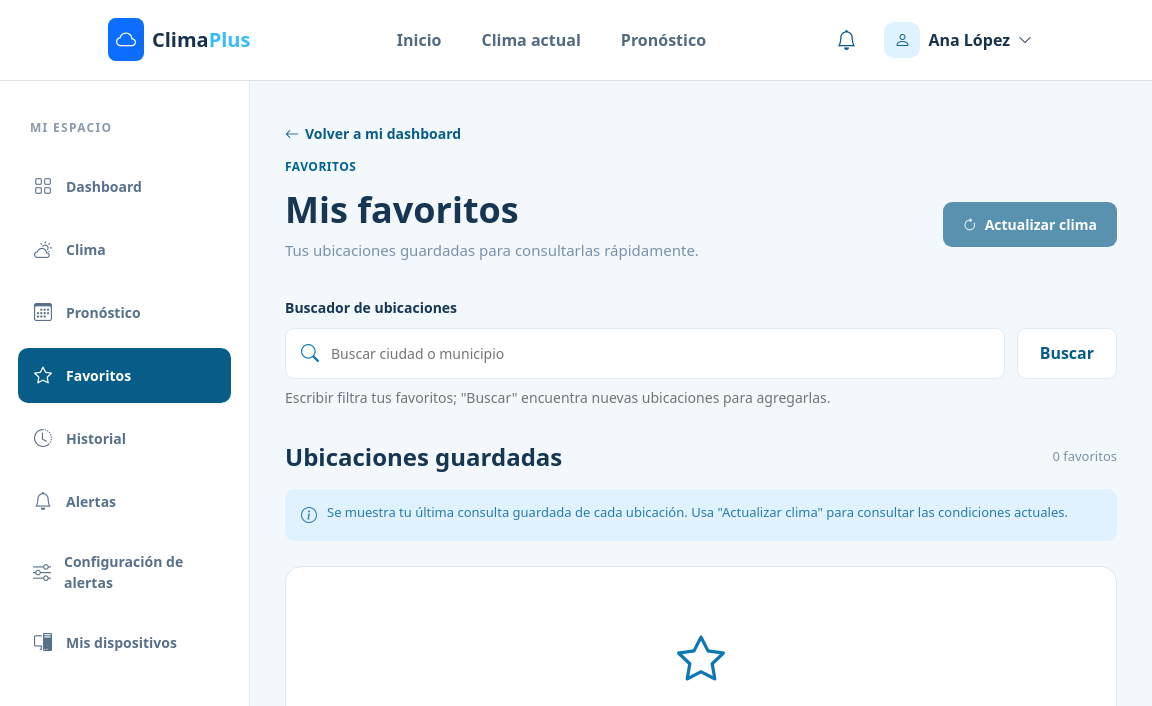
it: menú lateral persistente › los botones de regreso llevan al dashboard
Click the link "Volver a mi dashboard".
click(373, 134)  # box [285,123,461,144]
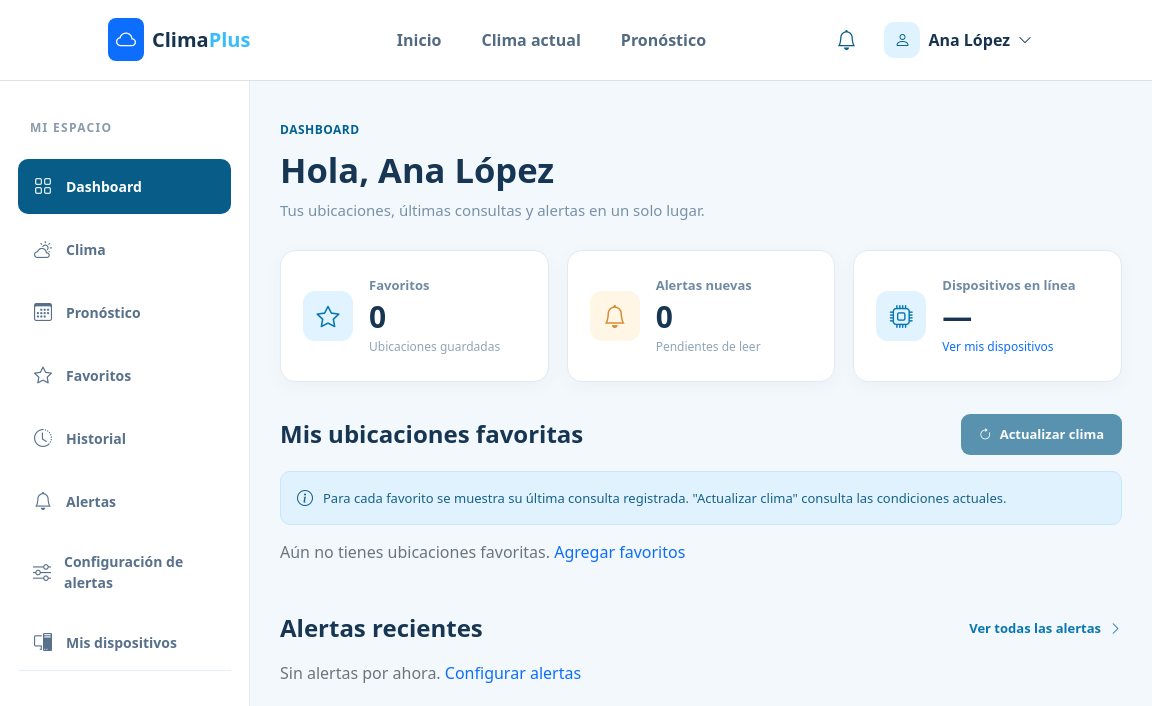
Expected: the heading "Hola, Ana López" is shown, [280,146,554,193]
